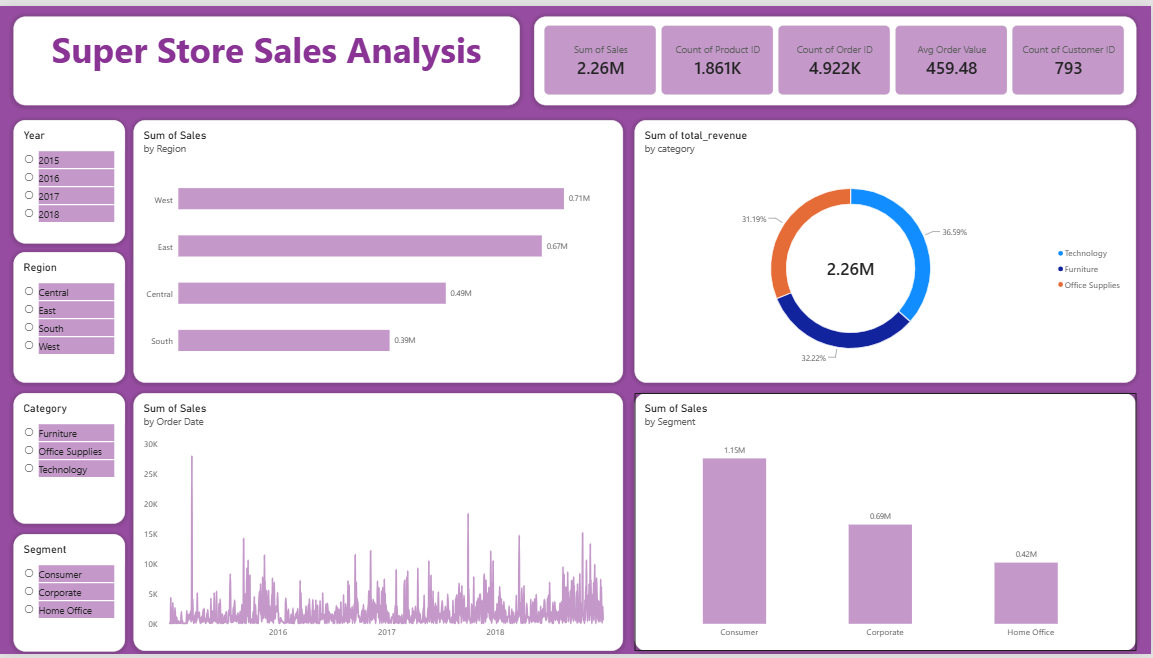

Layout of this report page (visuals, bound fields, positions):
{"tool":"powerbi","page":{"name":"Overview","canvas":[1920,1080],"ordinal":0},"visuals":[{"type":"cardVisual","fields":{"Data":["Sum(Raw_data.Sales)","Count(Raw_data.Product ID)","Count(Raw_data.Order ID)","Raw_data.Avg Order Value","Count(Raw_data.Customer ID)"]},"box":[890,18,1004,148],"z":0},{"type":"donutChart","fields":{"Category":["Category Revenue.category"],"Y":["Sum(Category Revenue.total_revenue)"]},"box":[1058,190,836,438],"z":1000},{"type":"clusteredBarChart","fields":{"Category":["Raw_data.Region"],"Y":["Sum(Raw_data.Sales)"]},"box":[222,190,816,438],"z":2000},{"type":"lineChart","fields":{"Category":["Raw_data.Order Date"],"Y":["Sum(Raw_data.Sales)"]},"box":[222,646,816,430],"z":3000},{"type":"clusteredColumnChart","fields":{"Category":["Raw_data.Segment"],"Y":["Sum(Raw_data.Sales)"]},"box":[1058,646,836,430],"z":4000},{"type":"listSlicer","fields":{"Values":["Raw_data.Category"]},"box":[22,646,186,218],"z":5000},{"type":"listSlicer","fields":{"Values":["Raw_data.Region"]},"box":[22,410,186,218],"z":6000},{"type":"listSlicer","fields":{"Values":["Raw_data.Segment"]},"box":[22,880,186,196],"z":7000},{"type":"listSlicer","fields":{"Values":["Raw_data.Year"]},"box":[22,190,186,206],"z":8000},{"type":"textbox","box":[22,18,844,148],"z":9000}]}

Visuals, with their boxes in screenshot pixels (x1, y1, x2, y2), scaled from the page's 1920x1080 canvas onto the 1153x658 screenshot:
cardVisual - Sum(Raw_data.Sales) x Count(Raw_data.Product ID): 534:11:1137:101
donutChart - Category Revenue.category x Sum(Category Revenue.total_revenue): 635:116:1137:383
clusteredBarChart - Raw_data.Region x Sum(Raw_data.Sales): 133:116:623:383
lineChart - Raw_data.Order Date x Sum(Raw_data.Sales): 133:394:623:656
clusteredColumnChart - Raw_data.Segment x Sum(Raw_data.Sales): 635:394:1137:656
listSlicer - Raw_data.Category: 13:394:125:526
listSlicer - Raw_data.Region: 13:250:125:383
listSlicer - Raw_data.Segment: 13:536:125:656
listSlicer - Raw_data.Year: 13:116:125:241
textbox: 13:11:520:101
